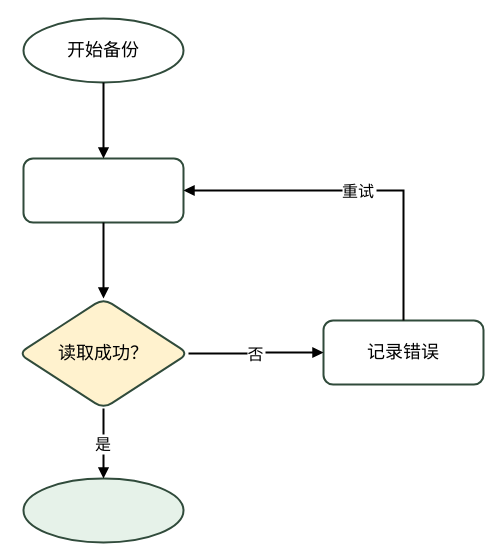
This 501x560 diagram has some shape labels left out. The centre of each missing label's shape, as x and y in pixels:
"保存快照" belongs at point 103,510.
"读取文件" belongs at point 103,190.
